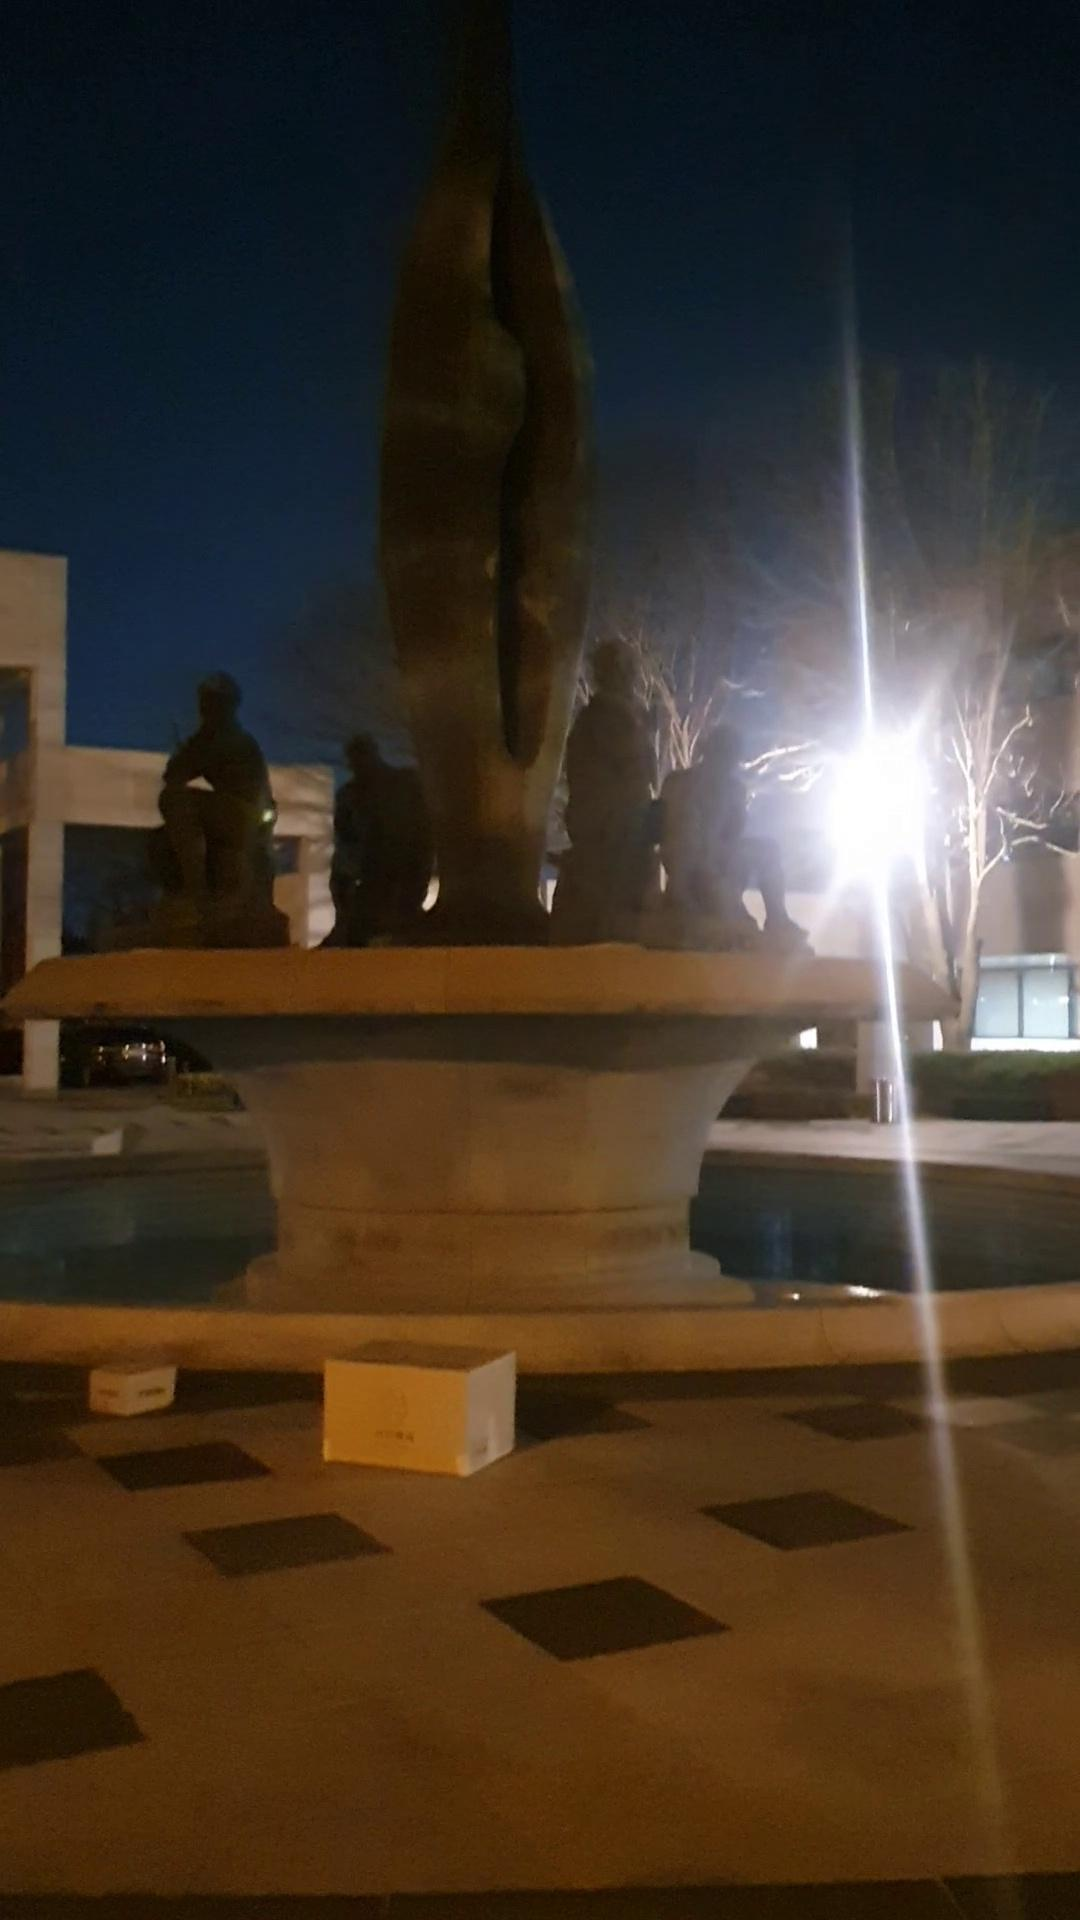Box: (306, 1338, 505, 1485), (61, 1350, 178, 1418)
